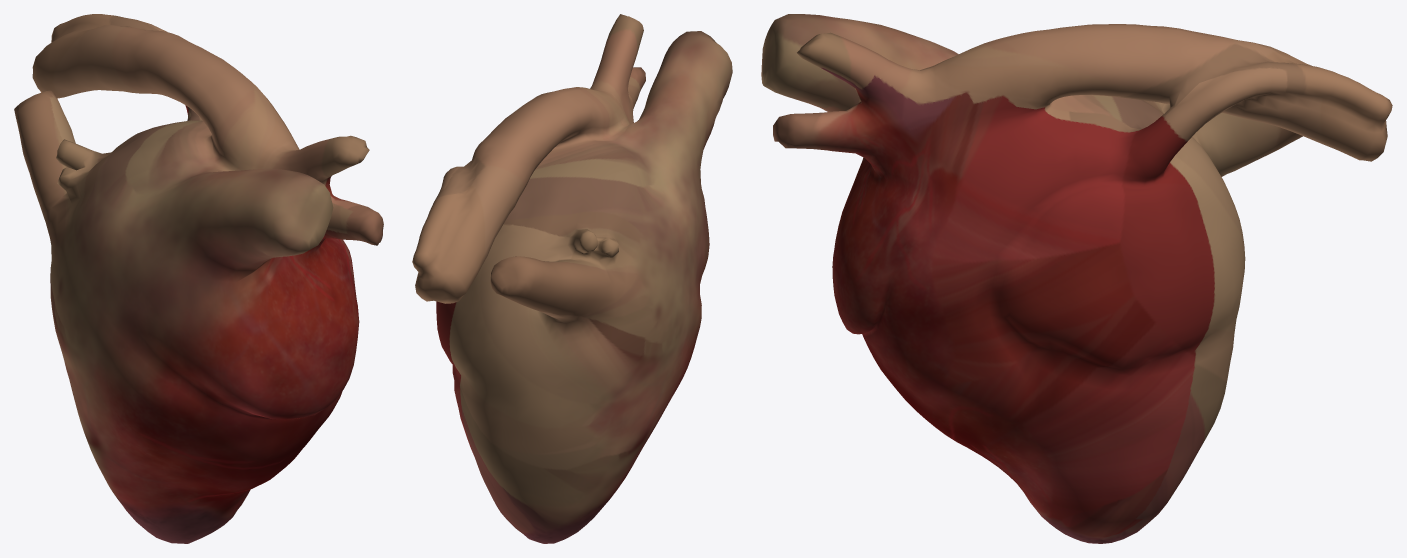
The model's file is Heart.glb.
The picture shows the model from 3 angles, left to right: view 1: azimuth 30°, elevation 25°; view 2: azimuth 150°, elevation 25°; view 3: azimuth 270°, elevation 25°; orthographic projection. The views are drawn at different scales.
Visible parts, largest first — view 1: HeartLow2:ZBrushPolyMesh3D; view 2: HeartLow2:ZBrushPolyMesh3D; view 3: HeartLow2:ZBrushPolyMesh3D.
Boxes of the visible parts, x1,y1,x2,y2 form: HeartLow2:ZBrushPolyMesh3D: [14, 14, 383, 543]; HeartLow2:ZBrushPolyMesh3D: [412, 14, 732, 543]; HeartLow2:ZBrushPolyMesh3D: [761, 14, 1392, 543].
Size of the model in its own units: 26.62 by 50.99 by 55.5.
Materials: 1 (1 with a texture image).
